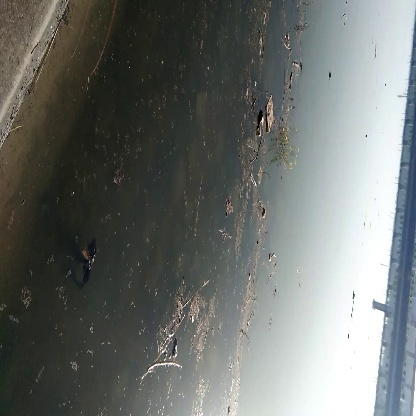plastic-garbage: (252, 85, 282, 138)
